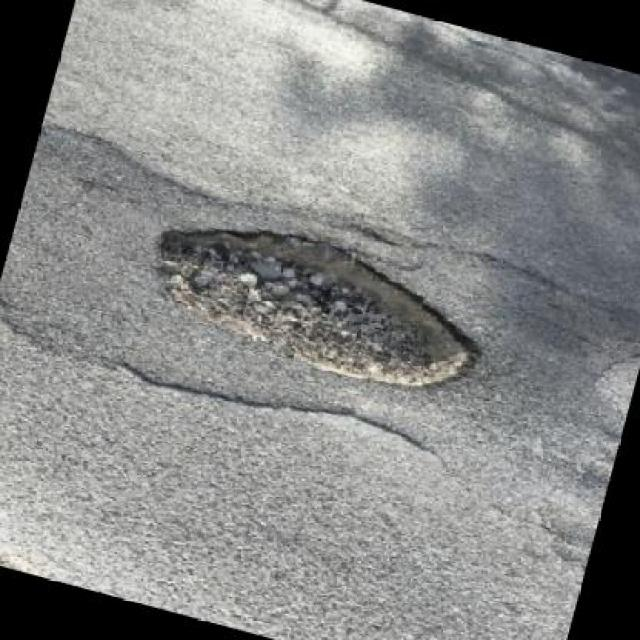pothole1: (133, 190, 507, 408)
